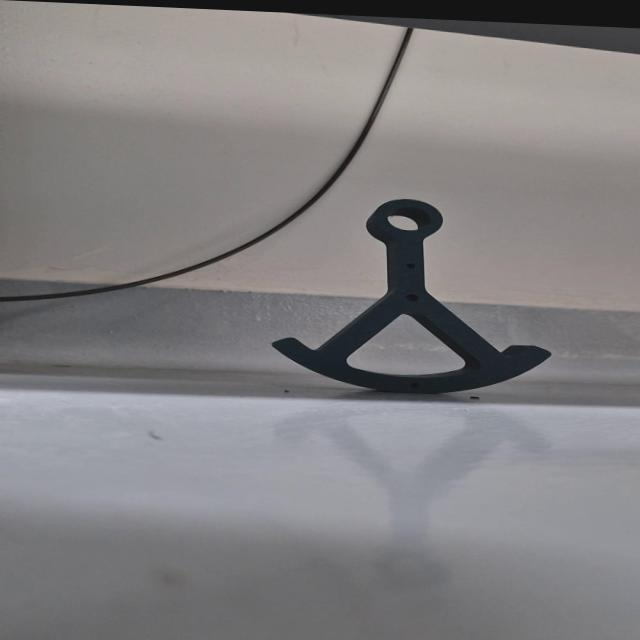haptic: (270, 192, 554, 401)
